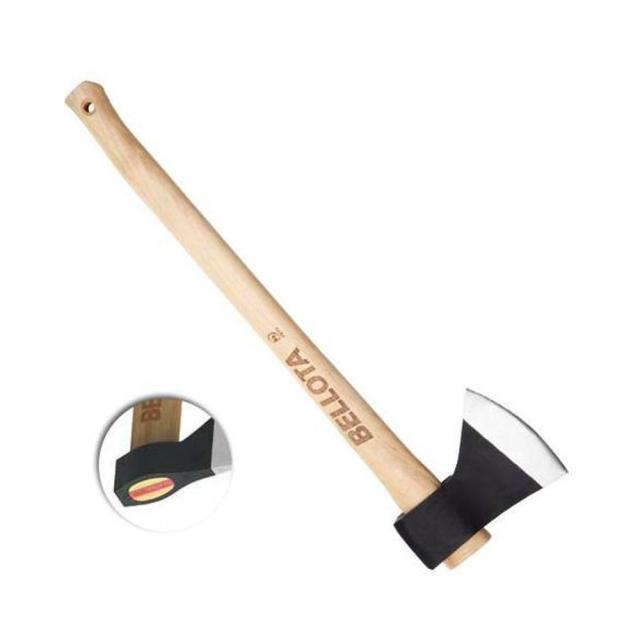Kapak: (69, 64, 579, 576)
